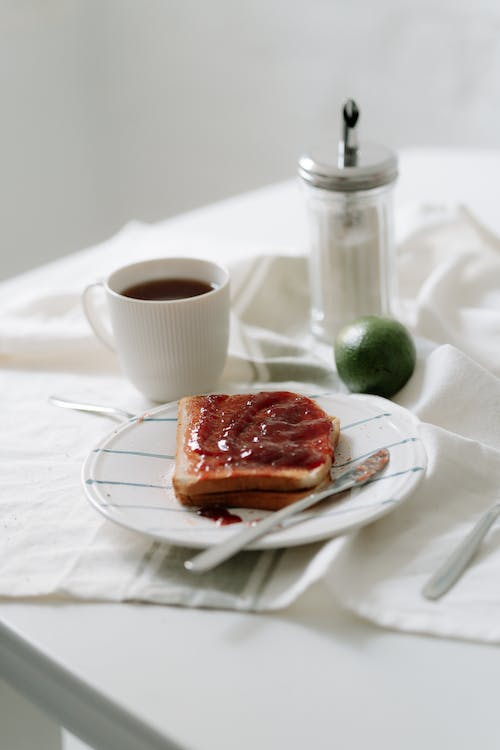knife: (181, 444, 393, 578)
